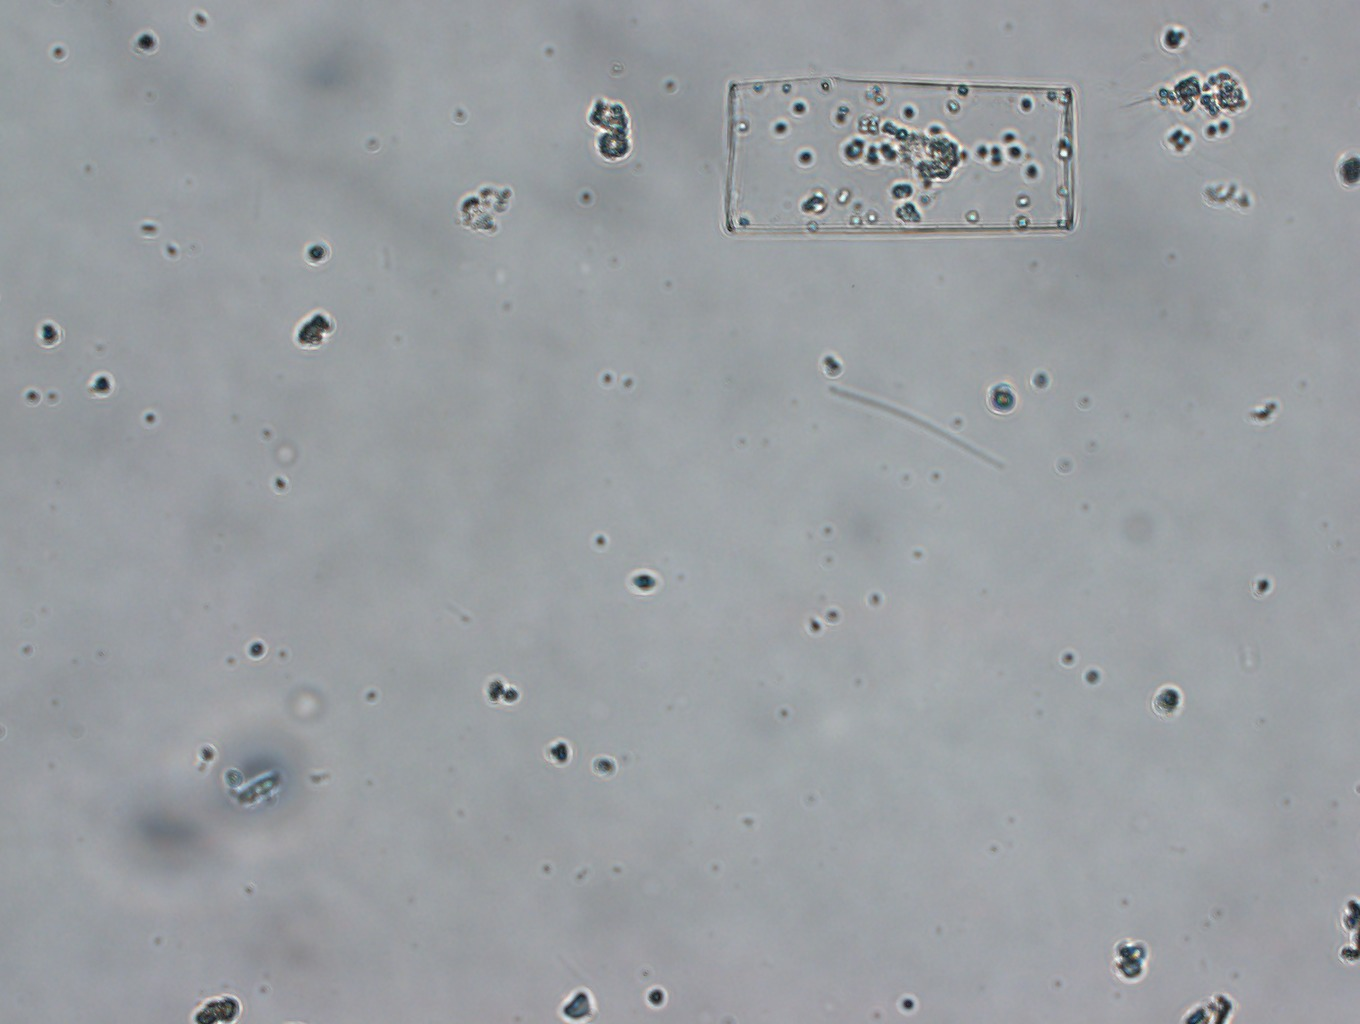guinardia flaccida: (724, 77, 1082, 243)
